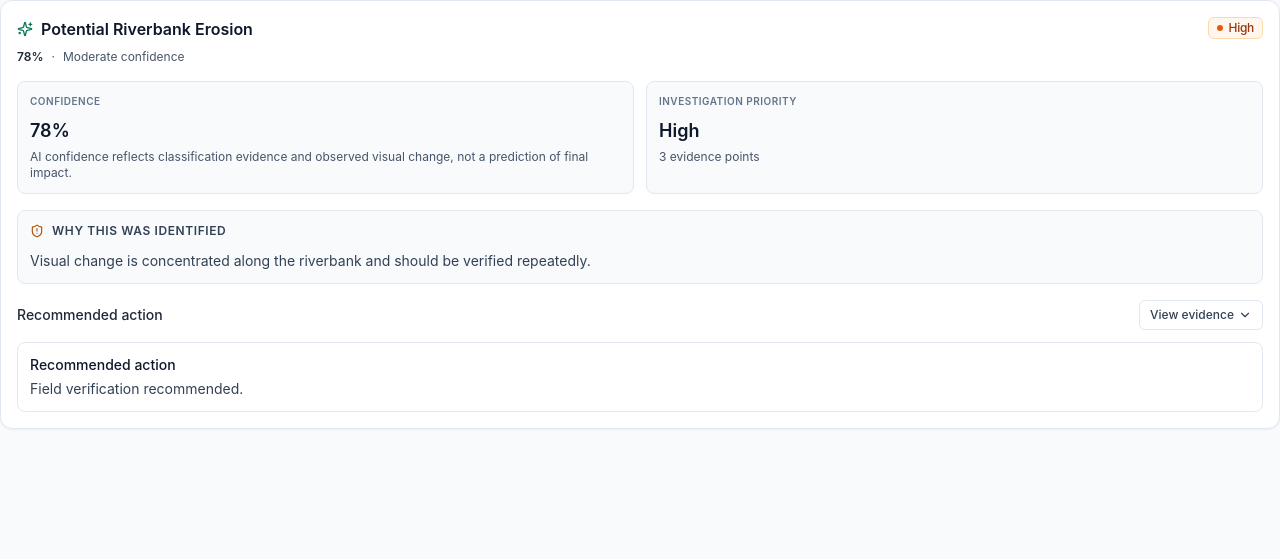
Test case: DetectionCard › renders detection summary, priority, and expandable evidence
Expected: the heading "Potential Riverbank Erosion" is shown, [41,17,253,41]
Expected: the text "78%" next to "Moderate confidence" is shown, [17,49,44,65]
Click the button "View evidence": click(1201, 315) [1139,300,1263,330]
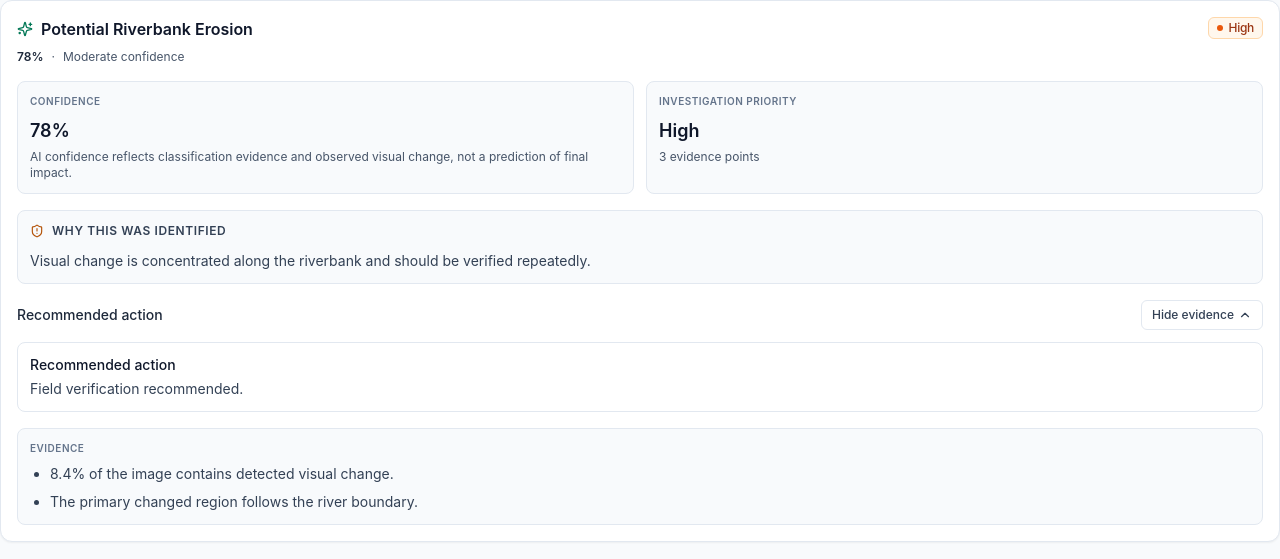
Result: the list item "8.4% of the image contains detected visual change." is shown at [50,465,394,482]
